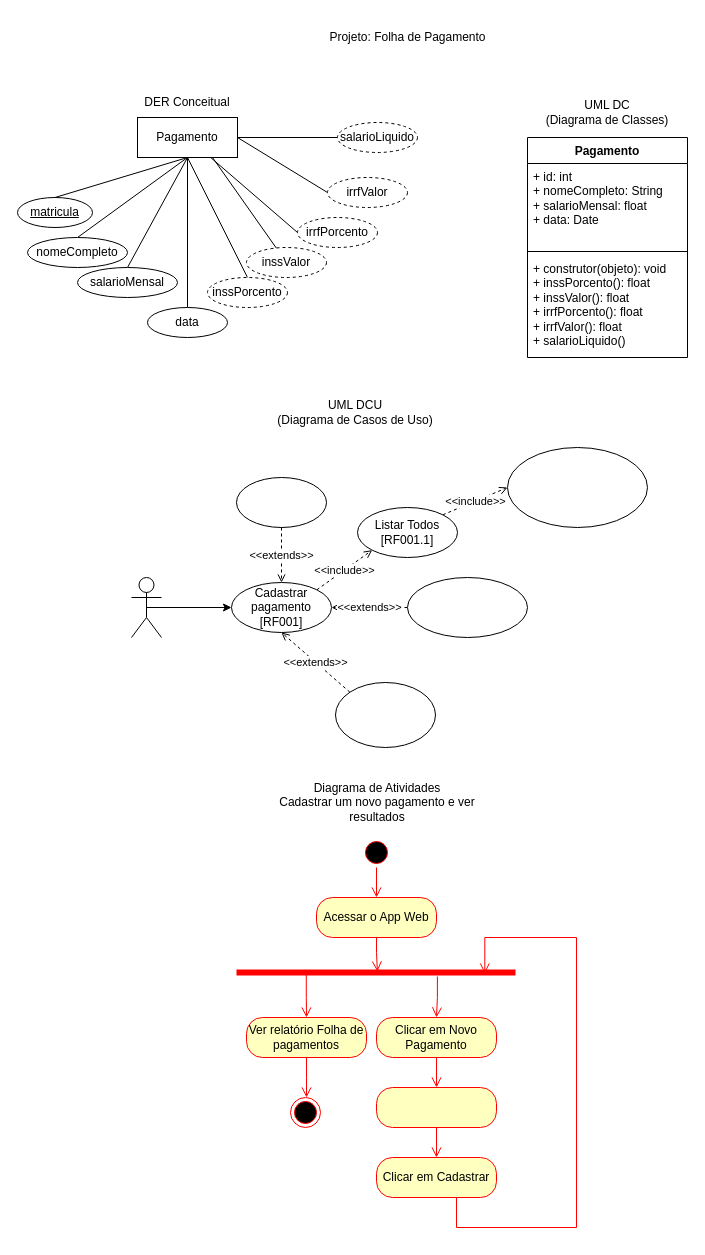
The diagram is 705 pixels wide and 1255 high, and some of its shapes have lost their labels. The centre of each missing label's shape, as x and y in pixels:
"Alterar Dados do Pagamento [RF001.2]" belongs at (x=467, y=607).
"Excluir Pagamento [RF001.3]" belongs at (x=385, y=715).
"Filtrar por Nome [RF001.5]" belongs at (x=281, y=502).
"Gestor de pessoal" belongs at (x=146, y=607).
"Preencher os dados obrigatórios" belongs at (x=436, y=1107).
"Ver Resultados dos cálculos e montantes [RF001.4]" belongs at (x=577, y=487).
